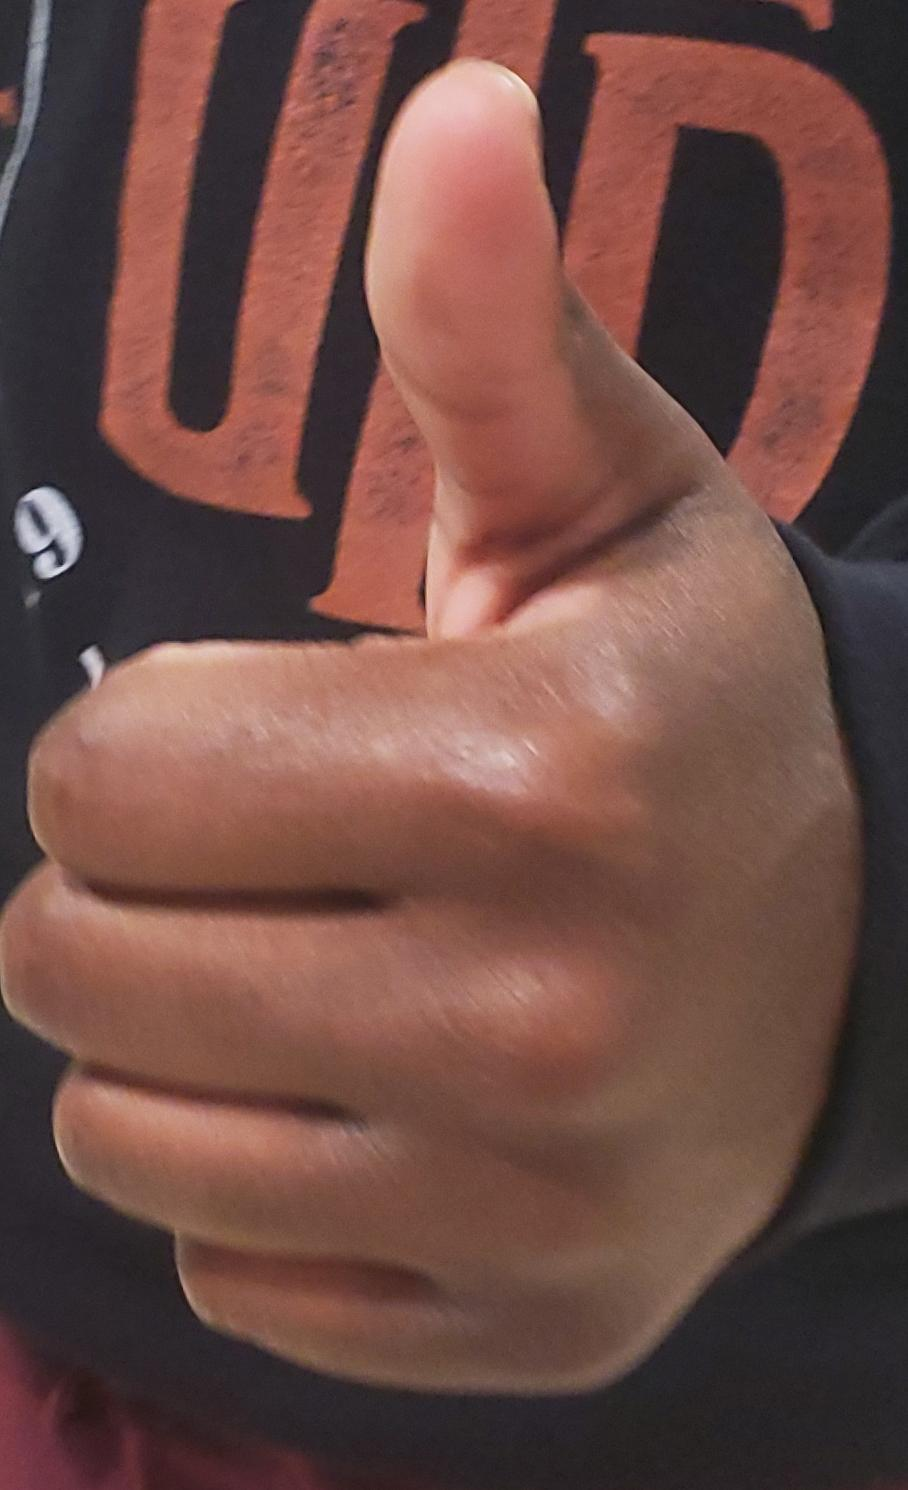up: (0, 1, 908, 1490)
